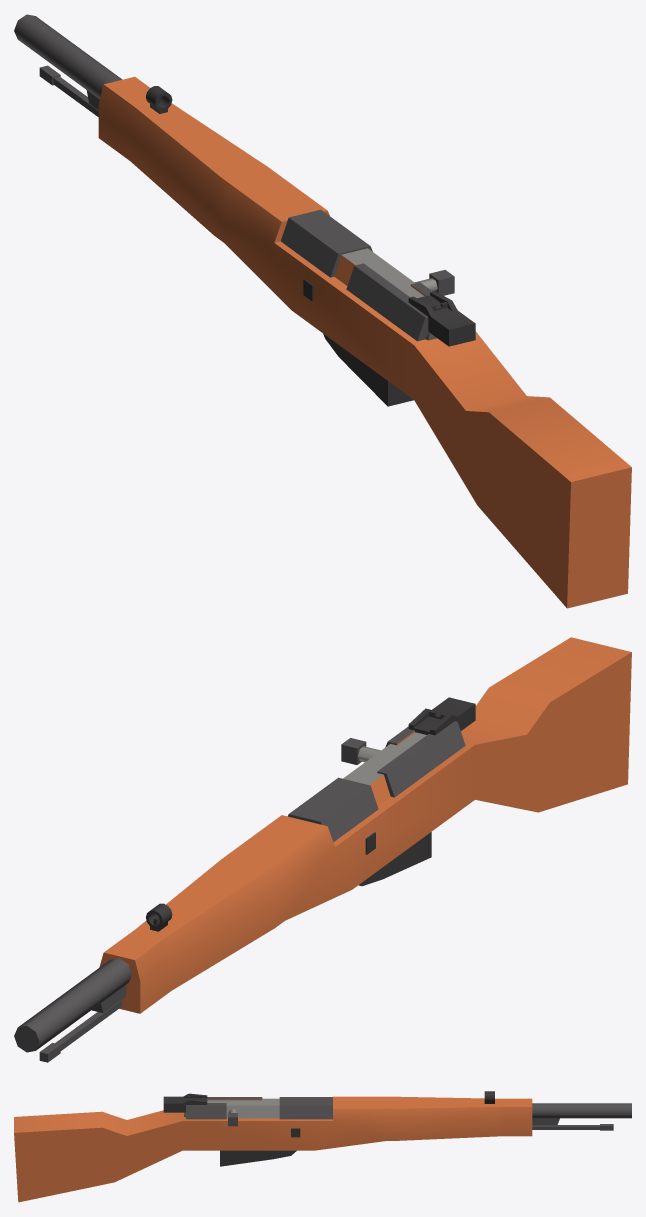
File: Mosin.fbx
The picture shows the model from 3 angles, top to bottom: view 1: azimuth 30°, elevation 25°; view 2: azimuth 150°, elevation 25°; view 3: azimuth 270°, elevation 25°; orthographic projection. The views are drawn at different scales.
Parts seen in each view (by area): view 1: Model_0; view 2: Model_0; view 3: Model_0.
Boxes of the visible parts, <box> form: Model_0: <box>14,14,631,608</box>; Model_0: <box>14,637,631,1062</box>; Model_0: <box>14,1091,631,1202</box>.
Size of the model in its own units: 14.64 by 31.8 by 174.
